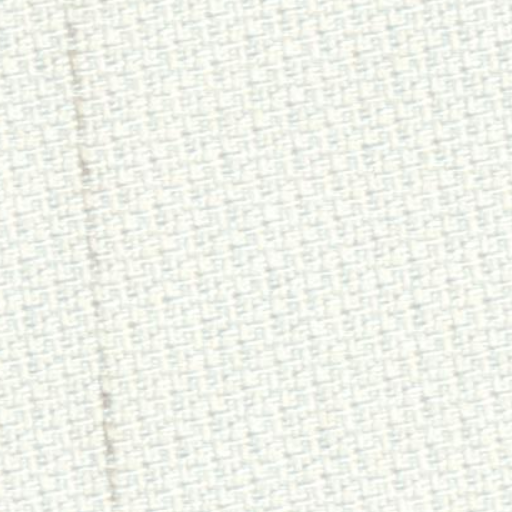WuZi: (58, 15, 132, 502)
